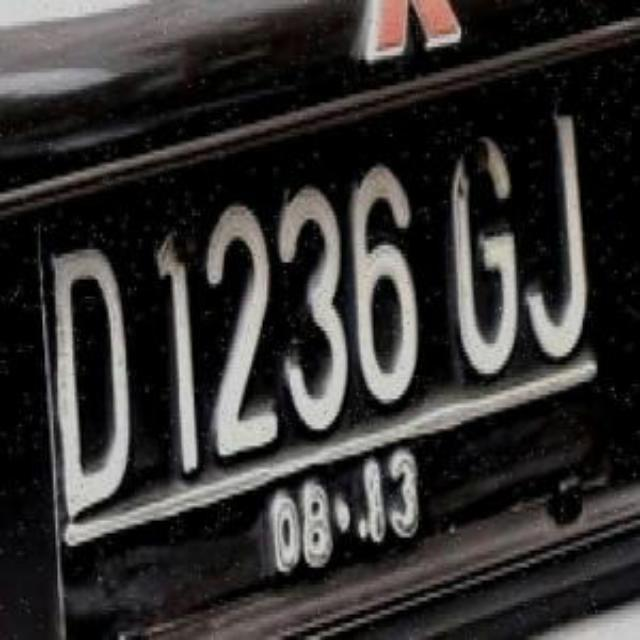License Plate: (35, 58, 617, 640)
